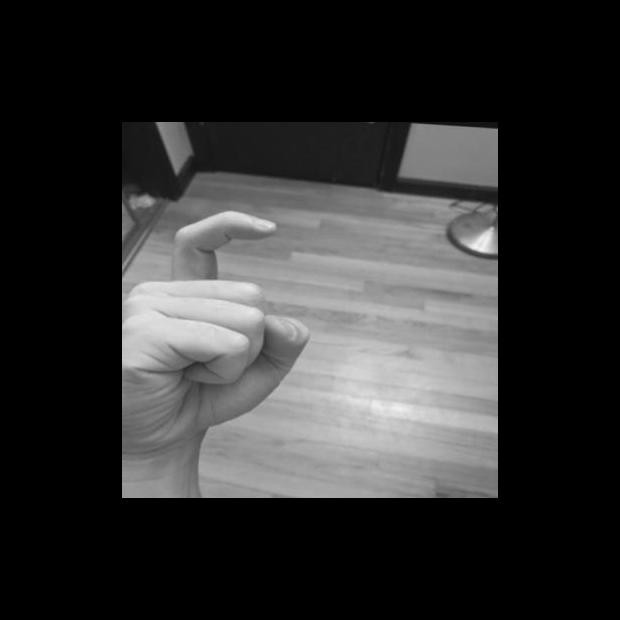W: (122, 198, 322, 467)
